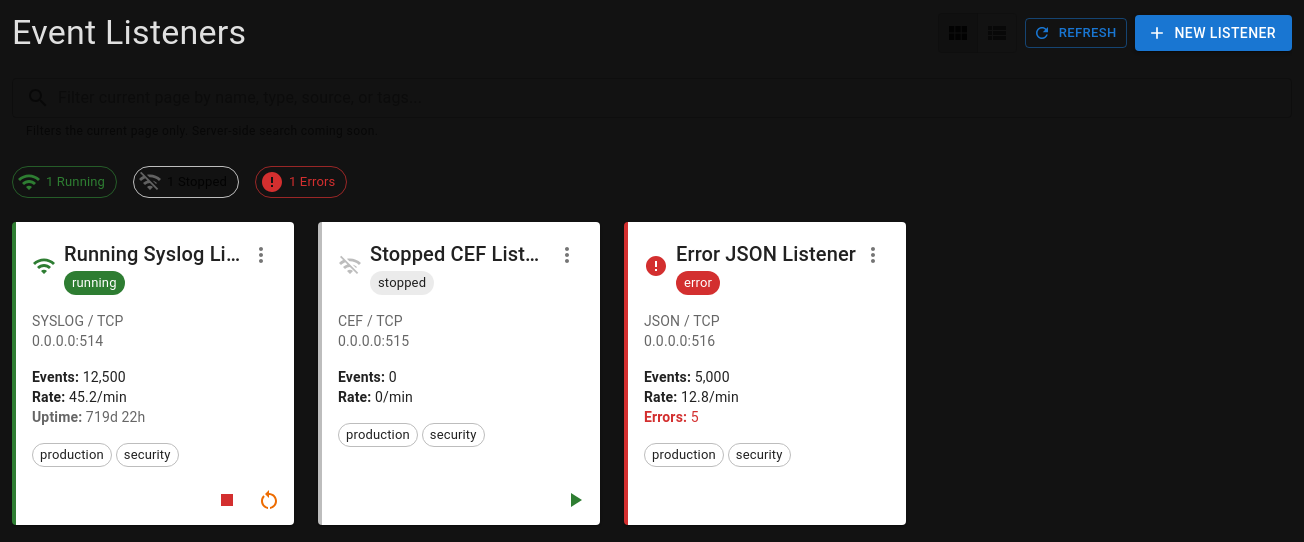
Listeners Page › Actions Menu › shows start option in menu for stopped listener
Expected: the text "Stopped CEF Listener" is shown, [370,238,550,270]
Click the button named "open actions menu".
click(567, 255)  # box [550,238,584,272]
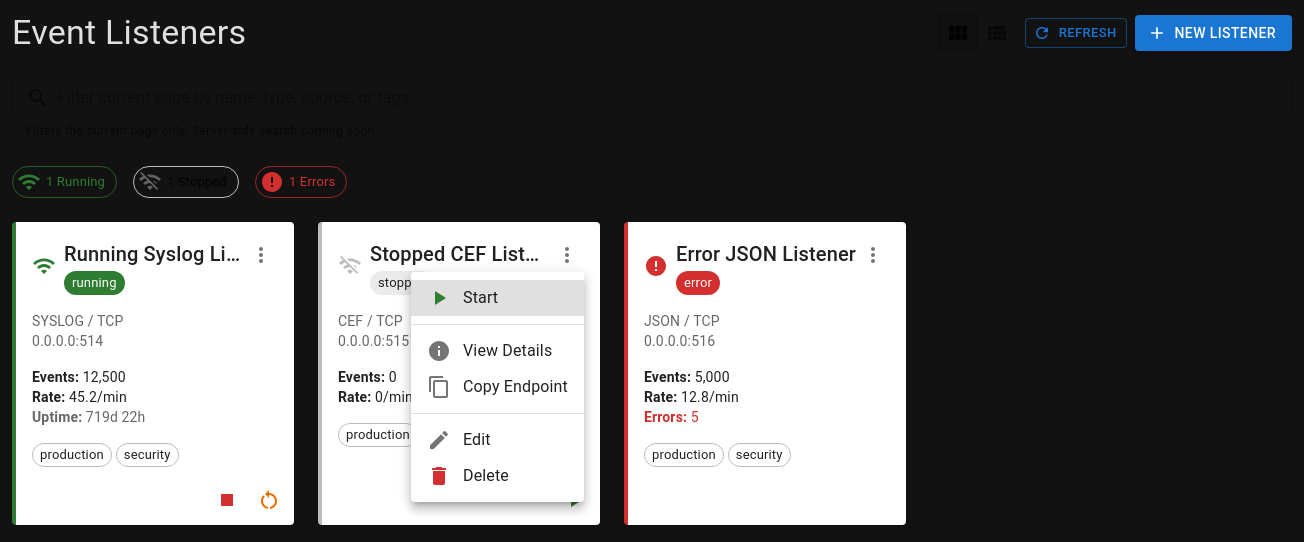
Expected: the menu item "Start" is shown, [411,280,584,316]
